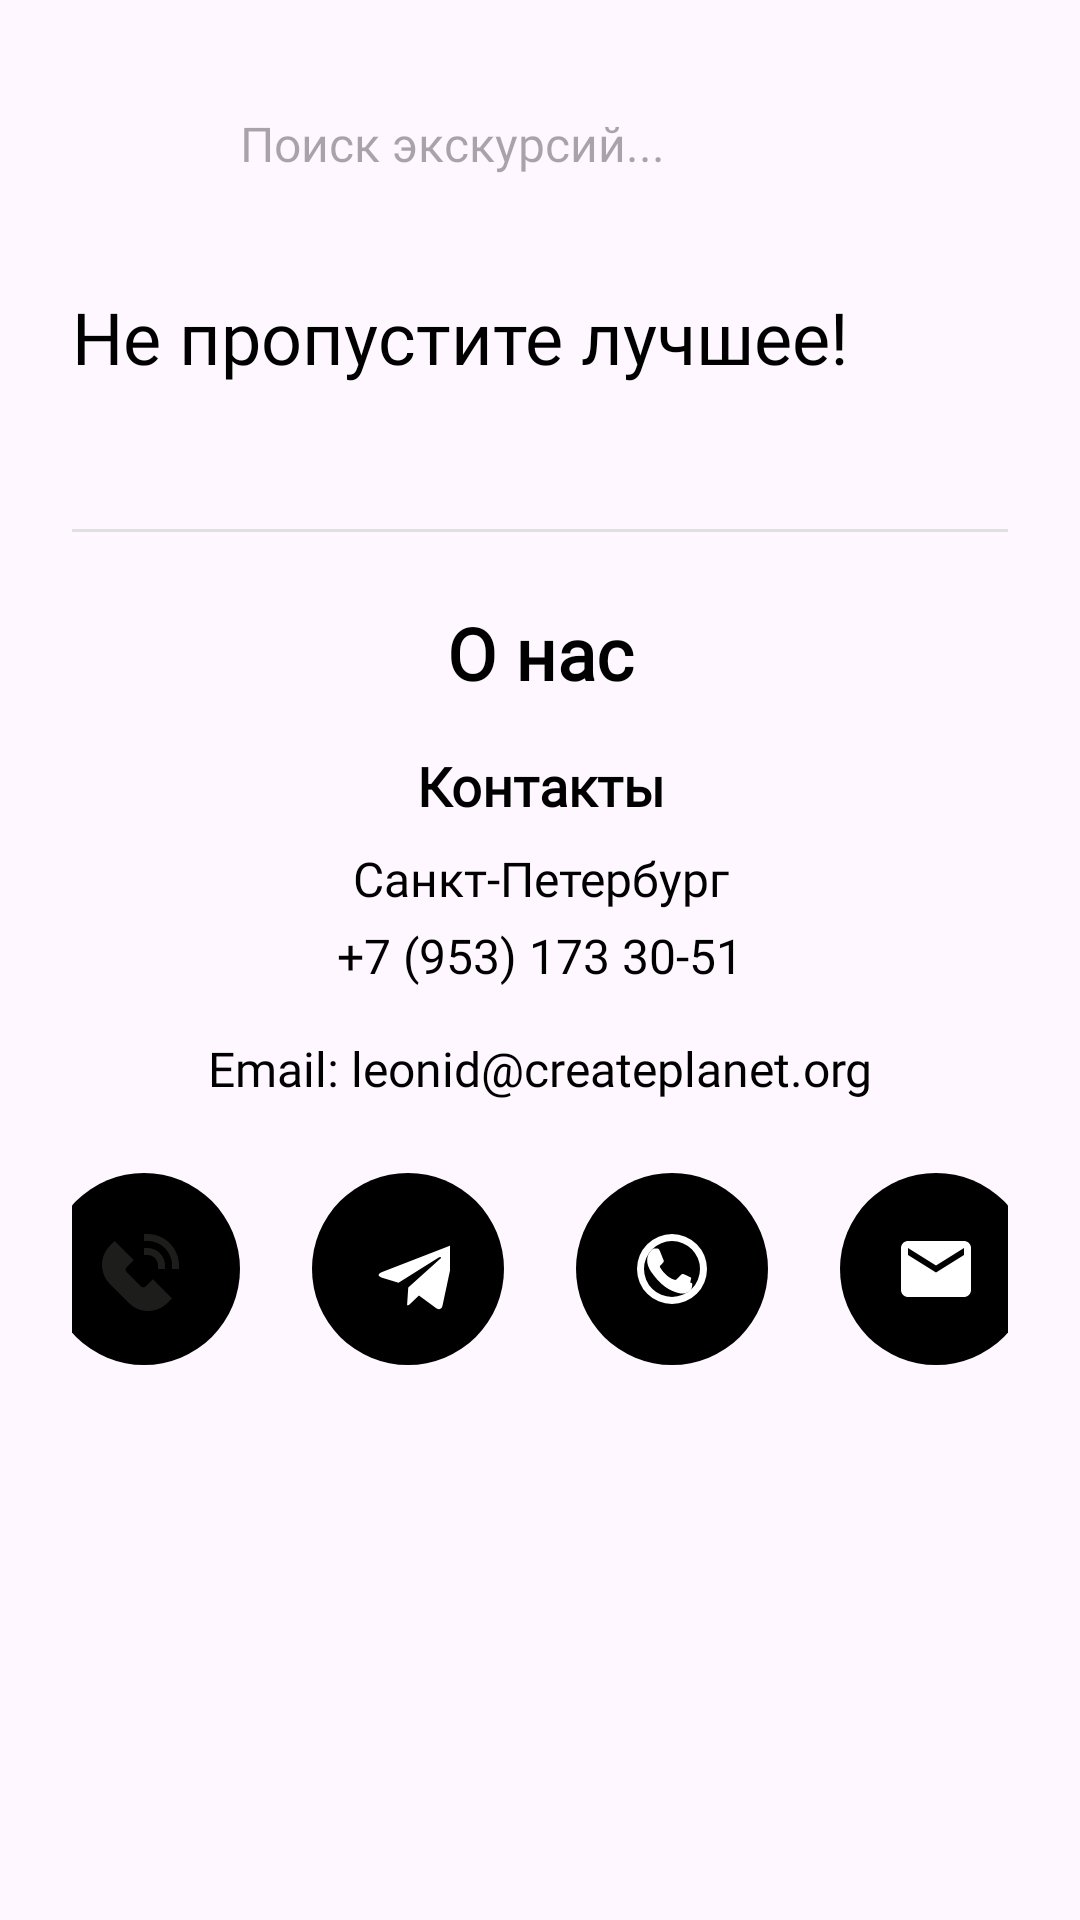

Icon bounding boxes for this 1080x1920 phone screenshot, format (x1, y1, x2, y2):
phone: (102, 1234, 179, 1311)
